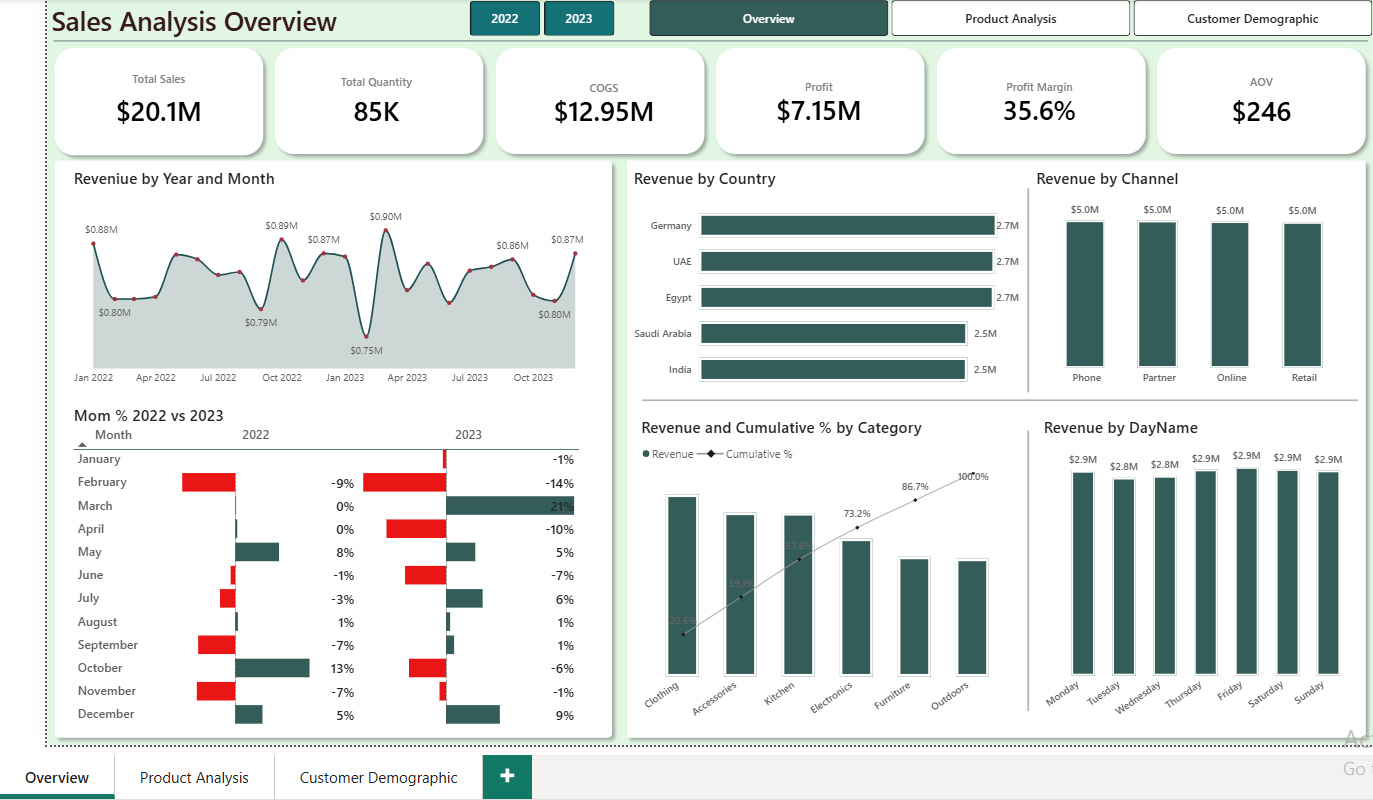

This screenshot's page, from the dashboard's own definition file:
{"tool":"powerbi","page":{"name":"Overview","canvas":[1600,900],"ordinal":0},"visuals":[{"type":"shape","box":[0,185.5,690.7,714.8],"z":0},{"type":"shape","box":[690.7,185.5,909.4,714.8],"z":1000},{"type":"clusteredBarChart","fields":{"Y":["Measures (2).TotalSales"],"Category":["DimGeography.Country"]},"box":[702.8,203.6,475,282],"z":2000},{"type":"lineStackedColumnComboChart","fields":{"Category":["FactSales.Category "],"Y2":["Measures (2).Cumulative %"],"Y":["Measures (2).TotalSales"]},"box":[711.8,503.7,460,381.5],"z":3000},{"type":"shape","box":[0,49.6,270,147.8],"z":4000},{"type":"card","title":"Total Sales","fields":{"Values":["Measures (2).TotalSales"]},"box":[28.7,76.9,212.6,93.5],"z":5000},{"type":"shape","box":[798,50.3,270,146.3],"z":6000},{"type":"shape","box":[1064.1,50.3,270,146.3],"z":7000},{"type":"shape","box":[532,50.3,270,146.3],"z":8000},{"type":"shape","box":[1330.1,50.3,269.9,146.3],"z":9000},{"type":"card","title":"Profit ","fields":{"Values":["Measures (2).Profit"]},"box":[830.9,86,200.6,73.9],"z":10000},{"type":"card","title":"Profit Margin","fields":{"Values":["Measures (2).Profit Margin"]},"box":[1084.3,86,226.2,73.9],"z":11000},{"type":"card","title":"AOV","fields":{"Values":["Measures (2).AOV"]},"box":[1355.7,79.9,218.7,87.5],"z":12000},{"type":"card","title":"COGS","fields":{"Values":["Measures (2).COGS"]},"box":[572.2,87.4,200.6,72.4],"z":13000},{"type":"textbox","box":[0,0,466,63.3],"z":14000},{"type":"shape","box":[7.5,36.2,1586.5,28.7],"z":15000},{"type":"areaChart","fields":{"Y":["Measures (2).TotalSales"],"Category":["Calendar.Date.Variation.Date Hierarchy.Year","Calendar.Date.Variation.Date Hierarchy.Month"]},"box":[27.1,203.6,639.4,271.4],"z":16000},{"type":"advancedSlicerVisual","fields":{"Values":["Clendar.Year"]},"box":[505.2,0,185.5,46.7],"z":17000},{"type":"columnChart","fields":{"Y":["Measures (2).TotalSales"],"Category":["FactSales.Channel"]},"box":[1188.3,203.6,395.1,271.4],"z":18000},{"type":"shape","title":"line 3","box":[1171.8,520.3,24.1,339.3],"z":19000},{"type":"pivotTable","title":"Mom % 2022 vs 2023 ","fields":{"Rows":["Calendar.Date.Variation.Date Hierarchy.Month"],"Values":["Measures (2).MOM %"],"Columns":["Calendar.Date.Variation.Date Hierarchy.Year"]},"box":[27.1,487.1,619.8,398.1],"z":20000},{"type":"shape","title":"line 3","box":[717.8,472,864.1,24.1],"z":21000},{"type":"columnChart","fields":{"Y":["Measures (2).TotalSales"],"Category":["Calendar.DayName"]},"box":[1197.4,503.7,389.1,381.5],"z":22000},{"type":"pageNavigator","box":[726.9,1.5,873.2,43.7],"z":23000},{"type":"shape","box":[266,50.3,269.9,146.3],"z":24000},{"type":"card","title":"Total Quantity","fields":{"Values":["Measures (2).Total Quantity"]},"box":[289.5,79.9,215.7,87.5],"z":25000},{"type":"shape","title":"line 3","box":[1171.8,227.7,24.1,247.3],"z":26000}]}

Visuals, with their boxes on the page's 1600x900 design canvas (x1, y1, x2, y2). These are canvas units, not pixel positions in the 1373x800 screenshot, which may show the page scaled, cropped or inside an application window:
shape: <region>0, 186, 691, 900</region>
shape: <region>691, 186, 1600, 900</region>
clusteredBarChart - Measures (2).TotalSales x DimGeography.Country: <region>703, 204, 1178, 486</region>
lineStackedColumnComboChart - FactSales.Category  x Measures (2).Cumulative %: <region>712, 504, 1172, 885</region>
shape: <region>0, 50, 270, 197</region>
"Total Sales" card: <region>29, 77, 241, 170</region>
shape: <region>798, 50, 1068, 197</region>
shape: <region>1064, 50, 1334, 197</region>
shape: <region>532, 50, 802, 197</region>
shape: <region>1330, 50, 1600, 197</region>
"Profit " card: <region>831, 86, 1032, 160</region>
"Profit Margin" card: <region>1084, 86, 1310, 160</region>
"AOV" card: <region>1356, 80, 1574, 167</region>
"COGS" card: <region>572, 87, 773, 160</region>
textbox: <region>0, 0, 466, 63</region>
shape: <region>8, 36, 1594, 65</region>
areaChart - Measures (2).TotalSales x Calendar.Date.Variation.Date Hierarchy.Year: <region>27, 204, 666, 475</region>
advancedSlicerVisual - Clendar.Year: <region>505, 0, 691, 47</region>
columnChart - Measures (2).TotalSales x FactSales.Channel: <region>1188, 204, 1583, 475</region>
"line 3" shape: <region>1172, 520, 1196, 860</region>
"Mom % 2022 vs 2023 " pivotTable: <region>27, 487, 647, 885</region>
"line 3" shape: <region>718, 472, 1582, 496</region>
columnChart - Measures (2).TotalSales x Calendar.DayName: <region>1197, 504, 1586, 885</region>
pageNavigator: <region>727, 2, 1600, 45</region>
shape: <region>266, 50, 536, 197</region>
"Total Quantity" card: <region>290, 80, 505, 167</region>
"line 3" shape: <region>1172, 228, 1196, 475</region>
